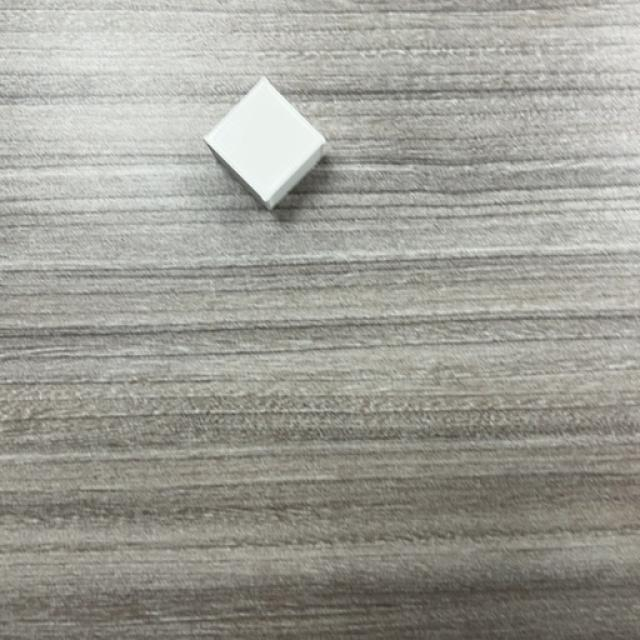Blanco: (202, 80, 329, 210)
